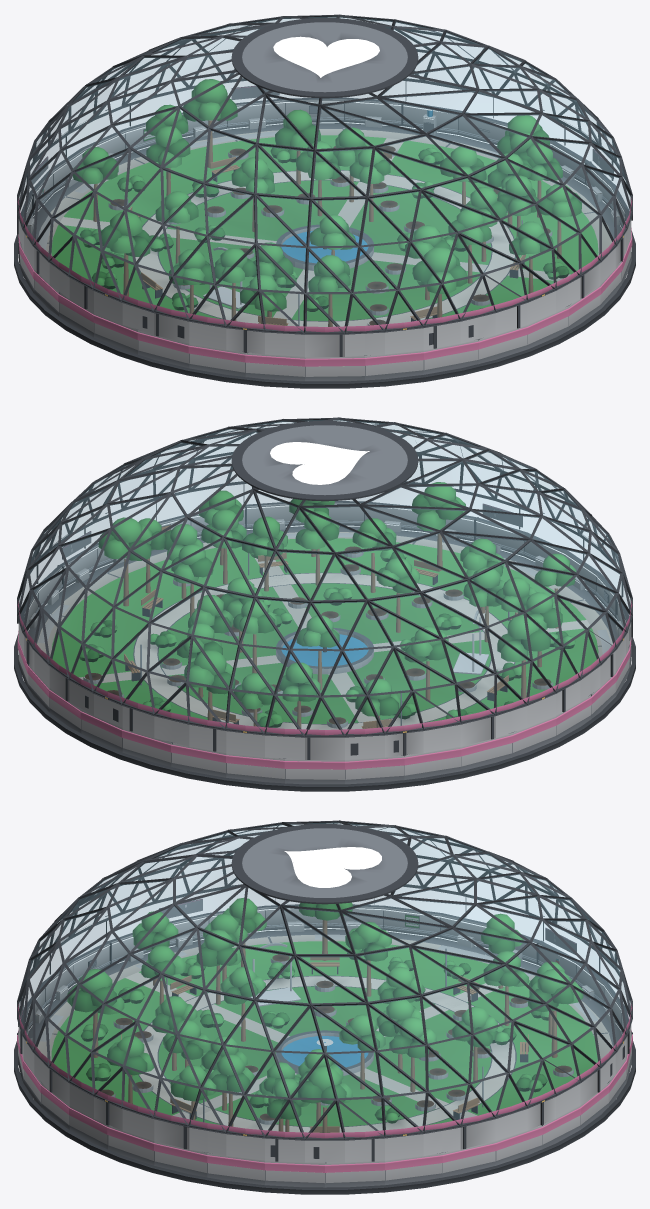
The model's file is park_xl_far.glb.
3 renders of one model, top to bottom at view 1: azimuth 30°, elevation 25°; view 2: azimuth 150°, elevation 25°; view 3: azimuth 270°, elevation 25°, orthographic.
Parts seen in each view (by area): view 1: Roof, Interior, Base; view 2: Roof, Interior, Base; view 3: Roof, Interior, Base.
Part boxes in pixels (x1,y1,x2,y2): Roof: (17,14,632,356); Interior: (38,79,598,326); Base: (14,97,635,388); Roof: (17,417,632,759); Interior: (38,482,611,729); Base: (14,501,635,791); Roof: (17,820,632,1162); Interior: (40,898,598,1132); Base: (14,904,635,1194).
Bounding box in the file's own units: 29.74 × 10.56 × 29.74.
